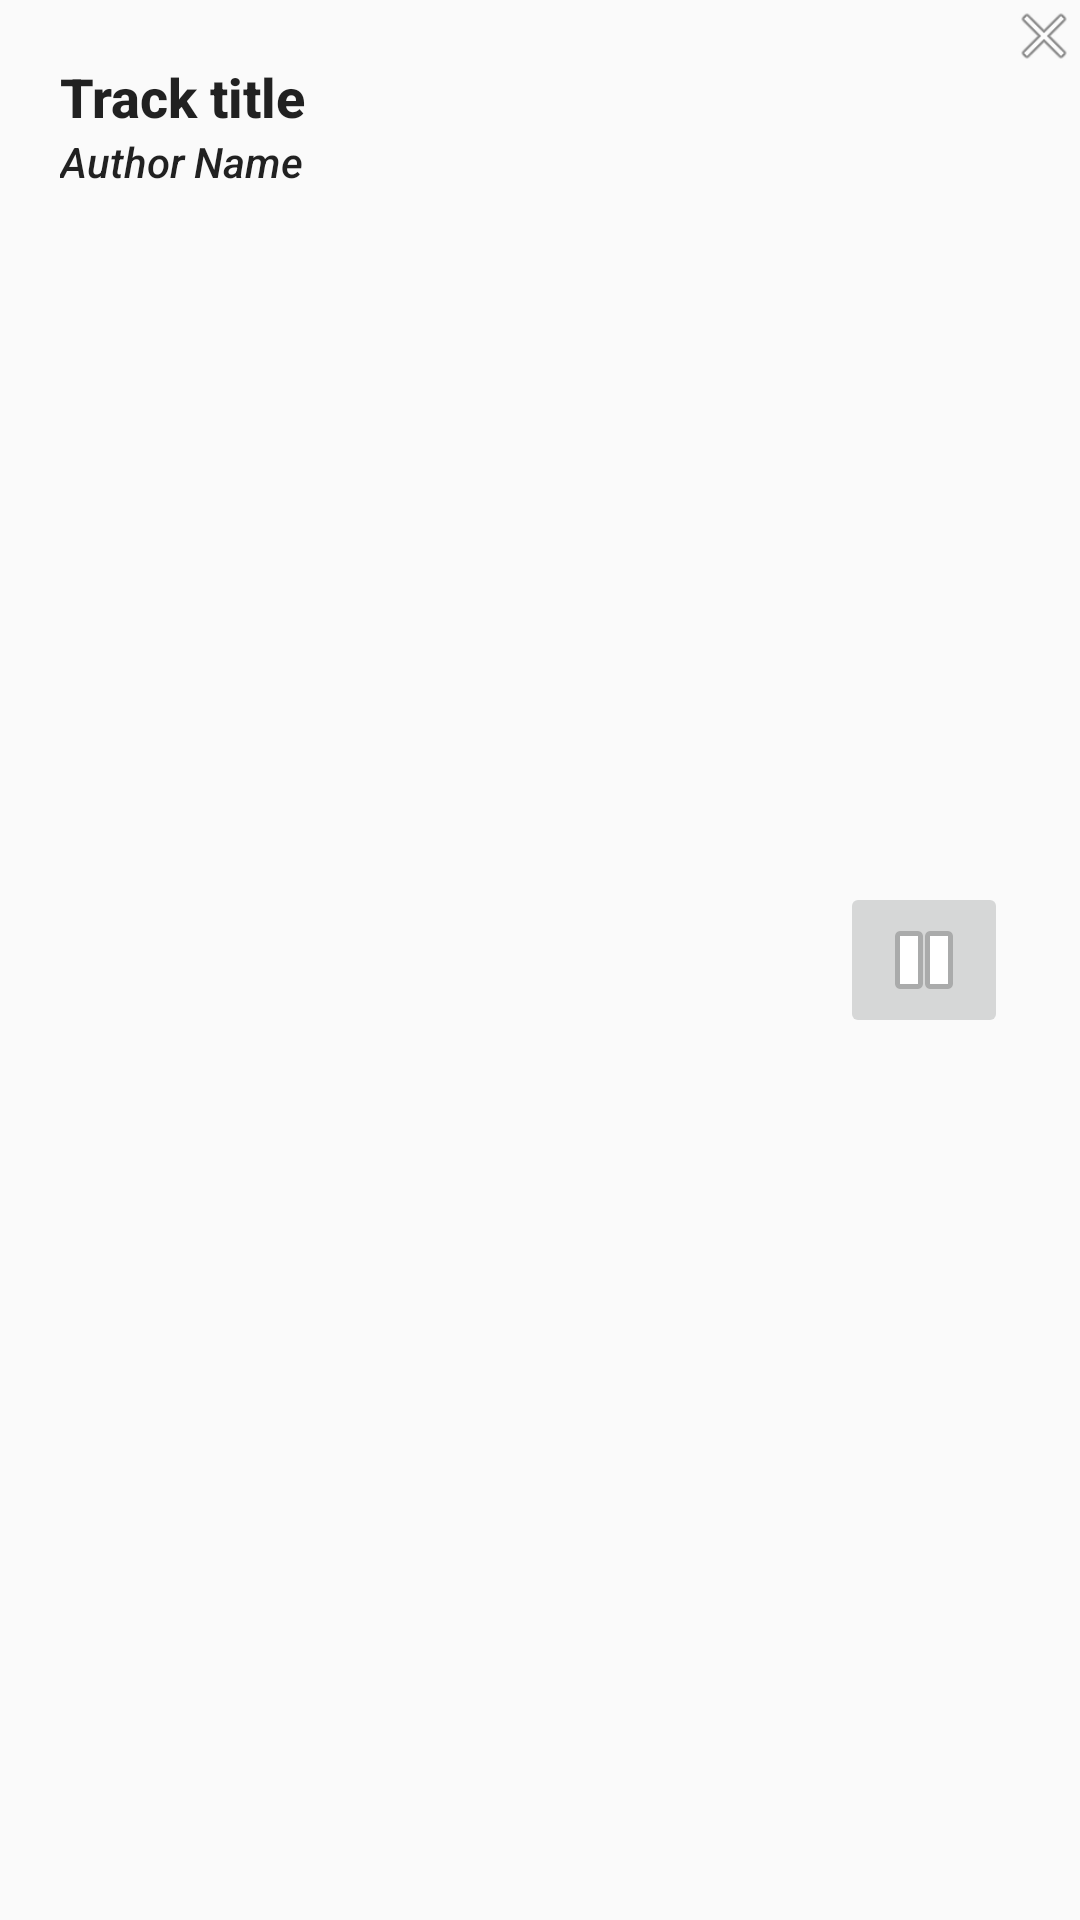

Named icons in this screenshot (1080w x 1920h) and their bounding boxes, (x1, y1, x2, y2):
close clear cancel: (1021, 13, 1067, 59)
pause: (852, 900, 996, 1020)
